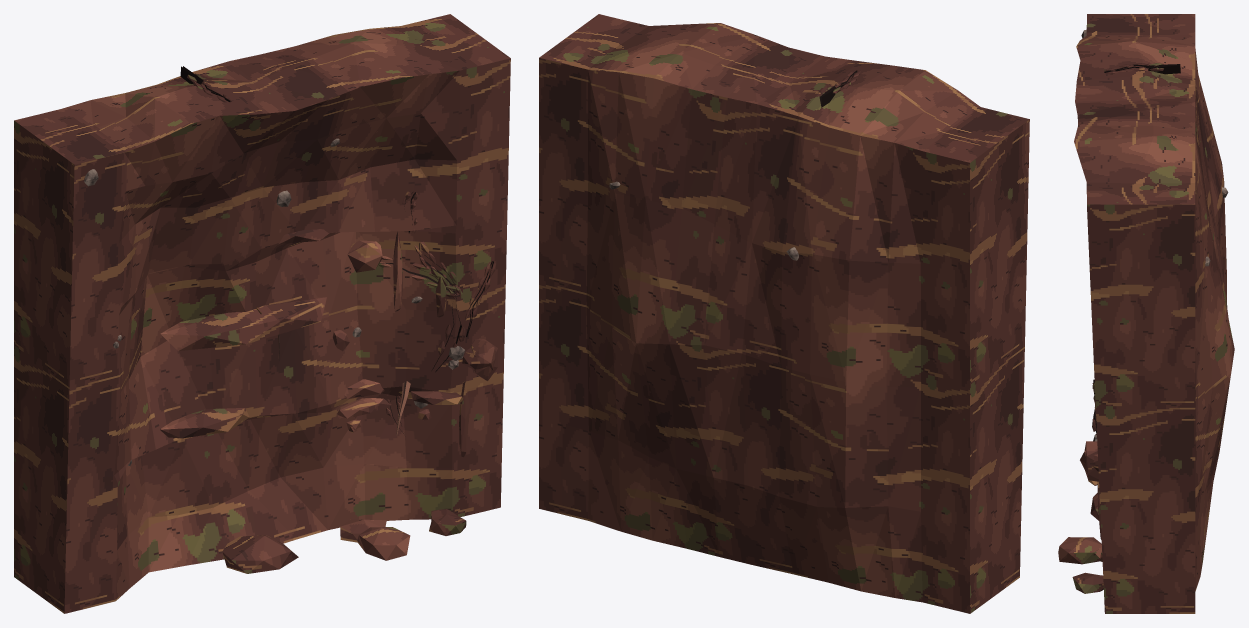
File: SM_AN01_EarthWall_C.fbx
3 renders of one model, left to right at view 1: azimuth 30°, elevation 25°; view 2: azimuth 150°, elevation 25°; view 3: azimuth 270°, elevation 25°, orthographic. The views are drawn at different scales.
Visible parts, largest first — view 1: AN01c_Earth, AN01c_Props; view 2: AN01c_Earth; view 3: AN01c_Earth, AN01c_Props.
Boxes of the visible parts, bbox=[...] form: AN01c_Earth: bbox=[14, 14, 510, 613]; AN01c_Props: bbox=[84, 66, 493, 465]; AN01c_Earth: bbox=[539, 14, 1029, 613]; AN01c_Earth: bbox=[1058, 14, 1234, 613]; AN01c_Props: bbox=[1081, 29, 1228, 441].
Size of the model in its own units: 4 by 4.19 by 1.56.
